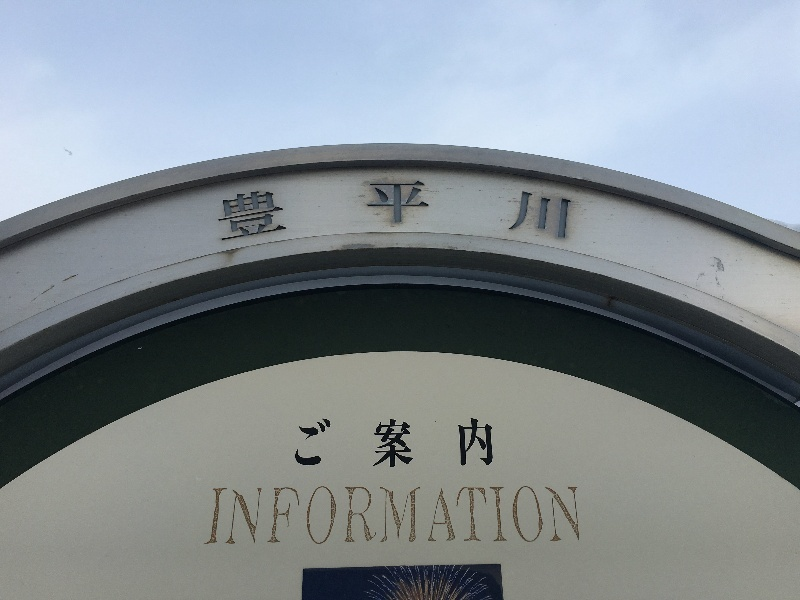text: (225, 176, 240, 241), (241, 176, 256, 241), (257, 176, 272, 241), (273, 176, 288, 241), (289, 176, 304, 241), (305, 176, 320, 241), (321, 176, 336, 241), (337, 176, 352, 241), (353, 176, 368, 241), (369, 176, 384, 241), (385, 176, 400, 241), (401, 176, 416, 241), (417, 176, 432, 241), (433, 176, 448, 241), (449, 176, 464, 241), (465, 176, 480, 241), (481, 176, 496, 241), (497, 176, 512, 241), (513, 176, 528, 241), (529, 176, 544, 241), (545, 176, 560, 241), (561, 176, 575, 241), (225, 486, 240, 545), (241, 486, 256, 545), (257, 486, 272, 545), (273, 486, 288, 545), (289, 486, 304, 545), (305, 486, 320, 545), (321, 486, 336, 545), (337, 486, 352, 545), (353, 486, 368, 545), (369, 486, 384, 545), (385, 486, 400, 545), (401, 486, 416, 545), (417, 486, 432, 545), (433, 486, 448, 545), (449, 486, 464, 545), (465, 486, 480, 545), (481, 486, 496, 545), (497, 486, 512, 545), (513, 486, 528, 545), (529, 486, 544, 545), (545, 486, 560, 545), (561, 486, 576, 545), (305, 419, 320, 470), (321, 419, 336, 470), (337, 419, 352, 470), (353, 419, 368, 470), (369, 419, 384, 470), (385, 419, 400, 470), (401, 419, 416, 470), (417, 419, 432, 470), (433, 419, 448, 470), (449, 419, 464, 470), (465, 419, 480, 470), (213, 486, 224, 545), (481, 419, 493, 470), (220, 176, 224, 241), (300, 419, 304, 470), (577, 486, 580, 545)
